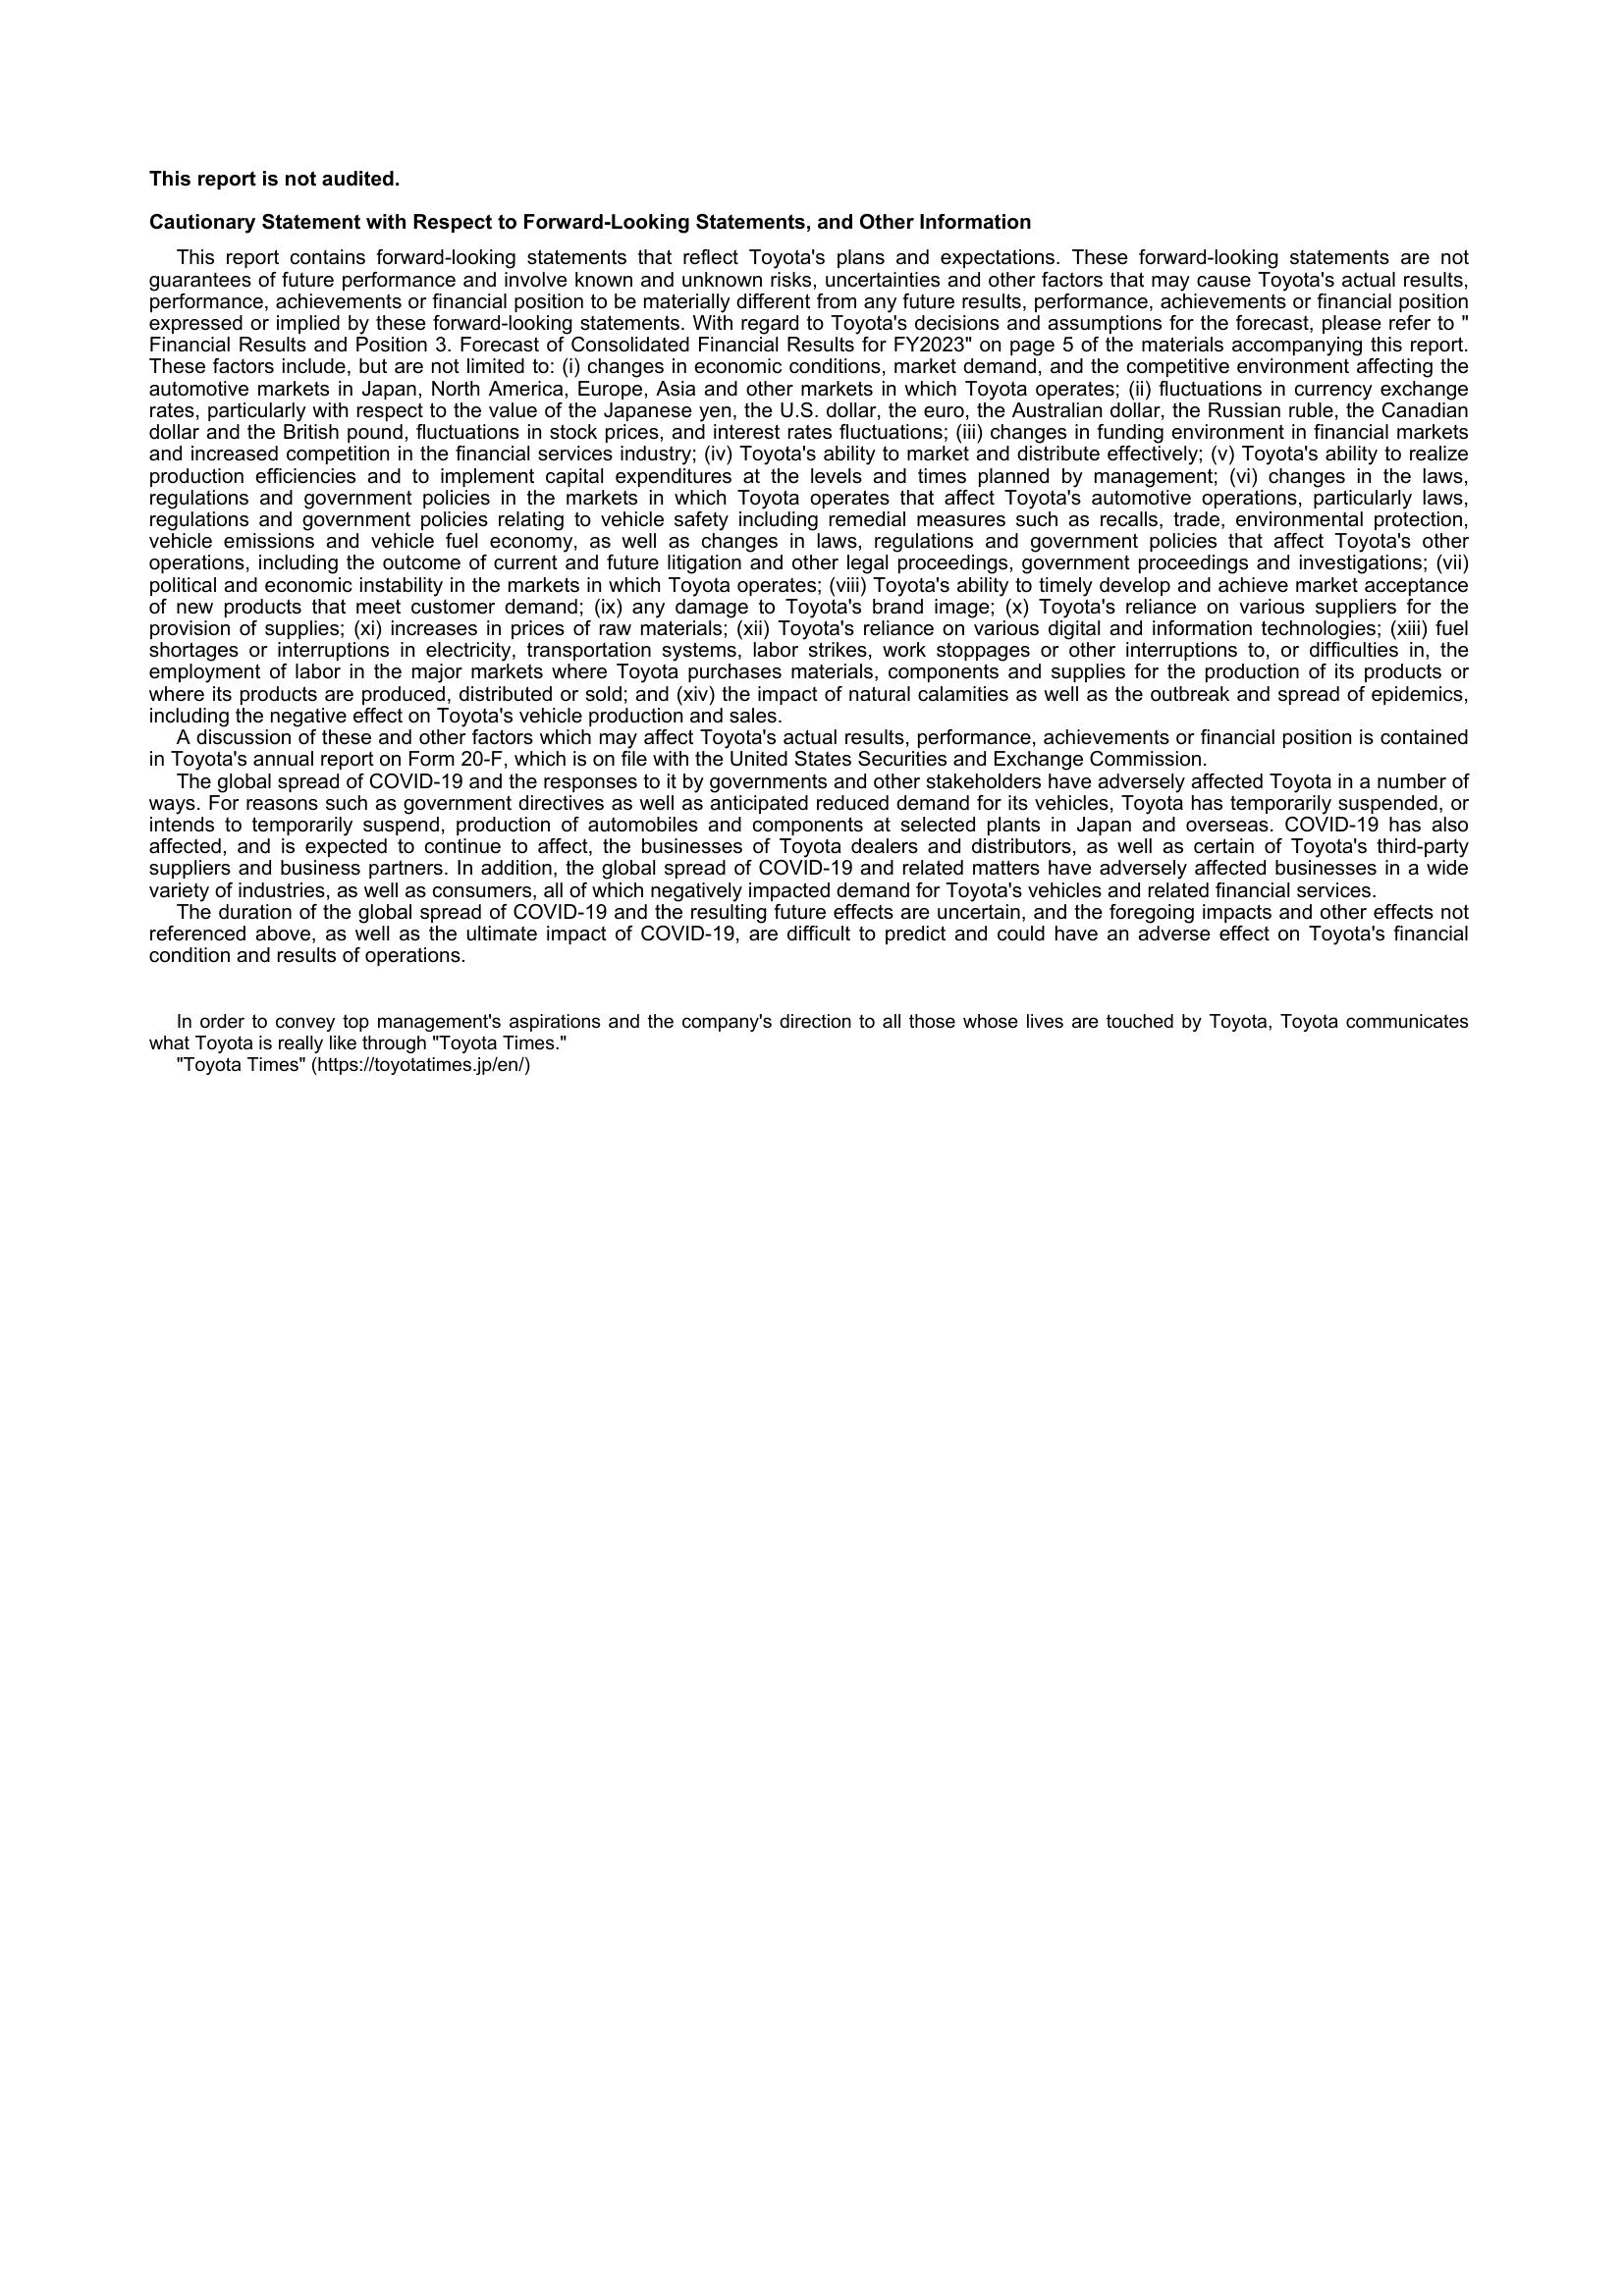Footer: (0, 2143, 1624, 2296)
Header: (0, 0, 1624, 156)
